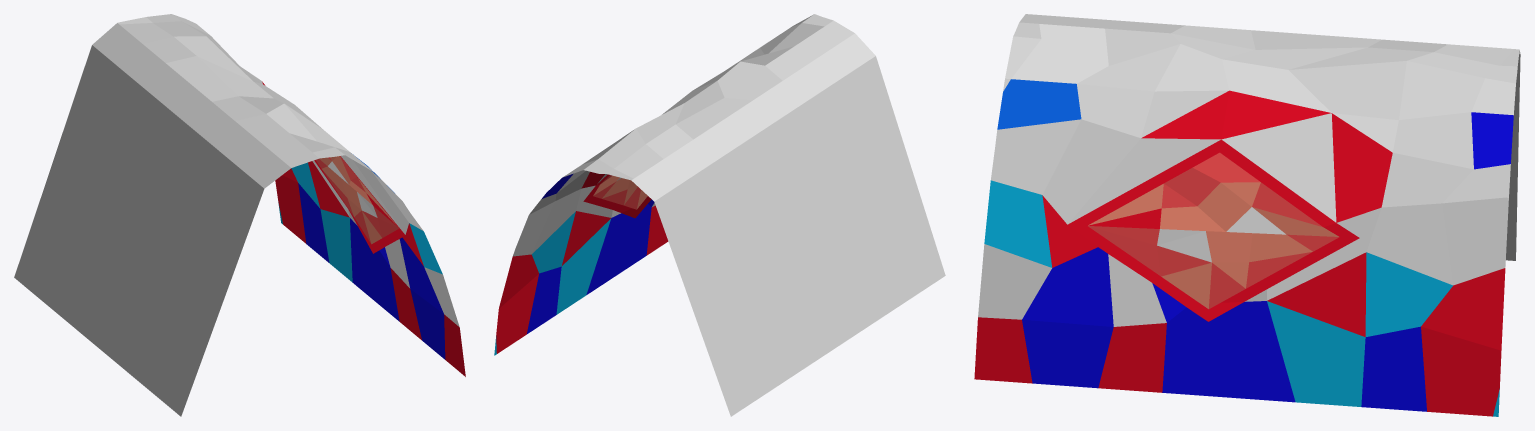
The model's file is Forma2.fbx.
3 views of the same model, side by side, from view 1: azimuth 30°, elevation 25°; view 2: azimuth 150°, elevation 25°; view 3: azimuth 270°, elevation 25° (orthographic). The views are drawn at different scales.
Parts seen in each view (by area): view 1: Sphere.005; view 2: Sphere.005; view 3: Sphere.005.
Part boxes in pixels (left/top/right/bottom): Sphere.005: left=14, top=14, right=465, bottom=416; Sphere.005: left=494, top=14, right=945, bottom=416; Sphere.005: left=974, top=14, right=1520, bottom=416.
Bounding box in the file's own units: 104 × 85.77 × 141.
